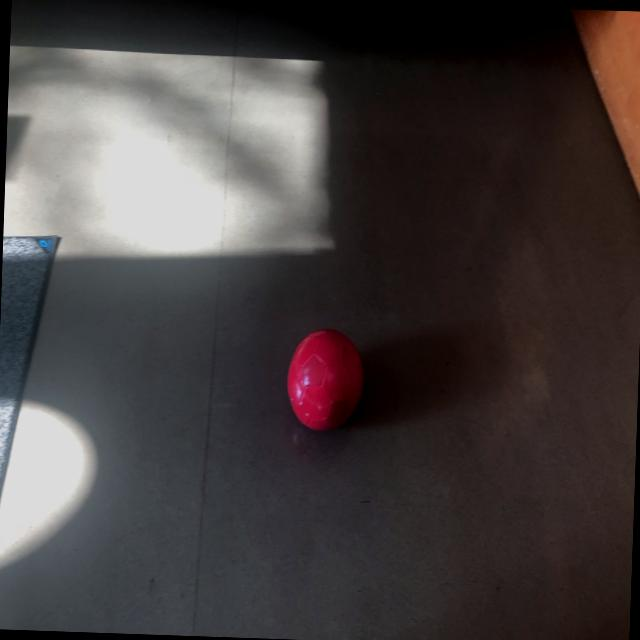red_ball: (282, 325, 364, 431)
